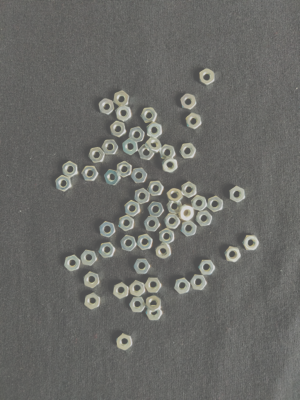nut: (84, 292, 101, 310), (83, 271, 100, 289), (174, 278, 191, 295), (64, 255, 81, 272), (99, 242, 116, 259), (178, 204, 195, 221), (134, 188, 151, 205), (167, 188, 184, 205), (55, 175, 72, 192), (104, 169, 121, 186), (62, 161, 79, 178), (141, 107, 158, 124), (117, 333, 133, 351), (146, 295, 162, 313), (144, 277, 162, 293), (190, 275, 208, 291), (224, 247, 242, 263), (179, 143, 197, 159), (129, 297, 146, 313), (113, 282, 129, 299), (129, 281, 146, 297), (199, 260, 216, 276), (134, 259, 151, 275), (81, 250, 98, 266), (155, 243, 172, 259), (121, 235, 137, 252), (137, 234, 153, 251), (99, 222, 116, 238), (119, 215, 135, 232), (144, 216, 161, 232), (164, 214, 181, 230), (181, 220, 197, 237), (196, 211, 213, 227), (125, 200, 141, 217), (148, 202, 165, 218), (191, 195, 207, 212), (207, 196, 223, 213), (131, 168, 148, 184), (162, 157, 178, 174), (88, 147, 105, 163), (102, 139, 119, 155), (146, 137, 162, 154), (110, 121, 126, 138), (186, 113, 202, 130), (116, 105, 132, 122), (99, 99, 115, 116), (81, 166, 99, 181), (123, 138, 138, 156), (148, 181, 164, 197), (139, 145, 155, 161), (181, 94, 197, 110), (160, 228, 175, 245), (230, 186, 245, 203), (182, 182, 197, 199), (117, 161, 132, 178), (147, 122, 162, 139), (200, 69, 215, 86), (243, 236, 259, 251), (129, 127, 145, 142), (114, 91, 129, 107), (159, 145, 176, 159), (146, 309, 163, 321), (167, 202, 183, 214)
